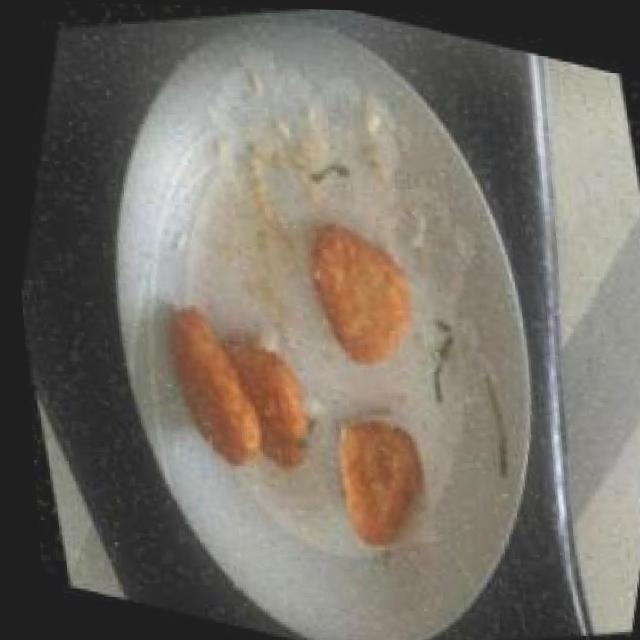triangle_hash_brown: (124, 273, 347, 510), (269, 199, 450, 393), (297, 389, 455, 566)
